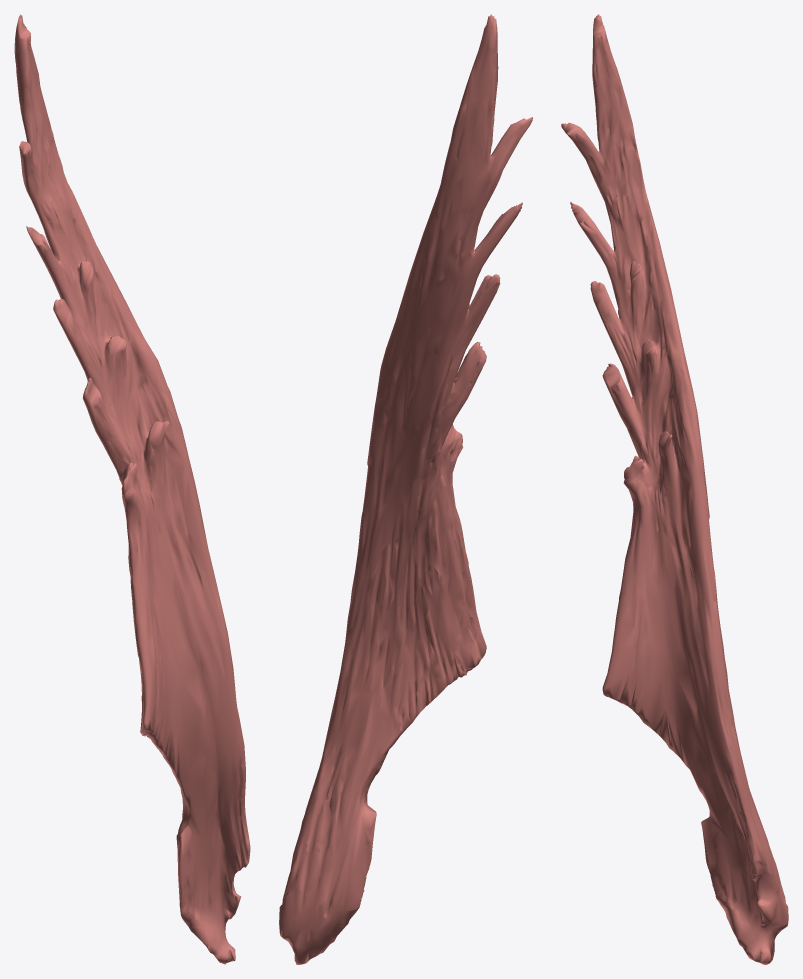
3 renders of one model, left to right at view 1: azimuth 30°, elevation 25°; view 2: azimuth 150°, elevation 25°; view 3: azimuth 330°, elevation 25°, orthographic. The views are drawn at different scales.
Visible parts, largest first — view 1: ZA_25db3825fa42a055; view 2: ZA_25db3825fa42a055; view 3: ZA_25db3825fa42a055.
Part boxes in pixels (x1,y1,x2,y2): ZA_25db3825fa42a055: (14, 14, 250, 964); ZA_25db3825fa42a055: (279, 14, 532, 964); ZA_25db3825fa42a055: (561, 14, 788, 964).
Size of the model in its own units: 0.0946 by 0.3903 by 0.0475.
